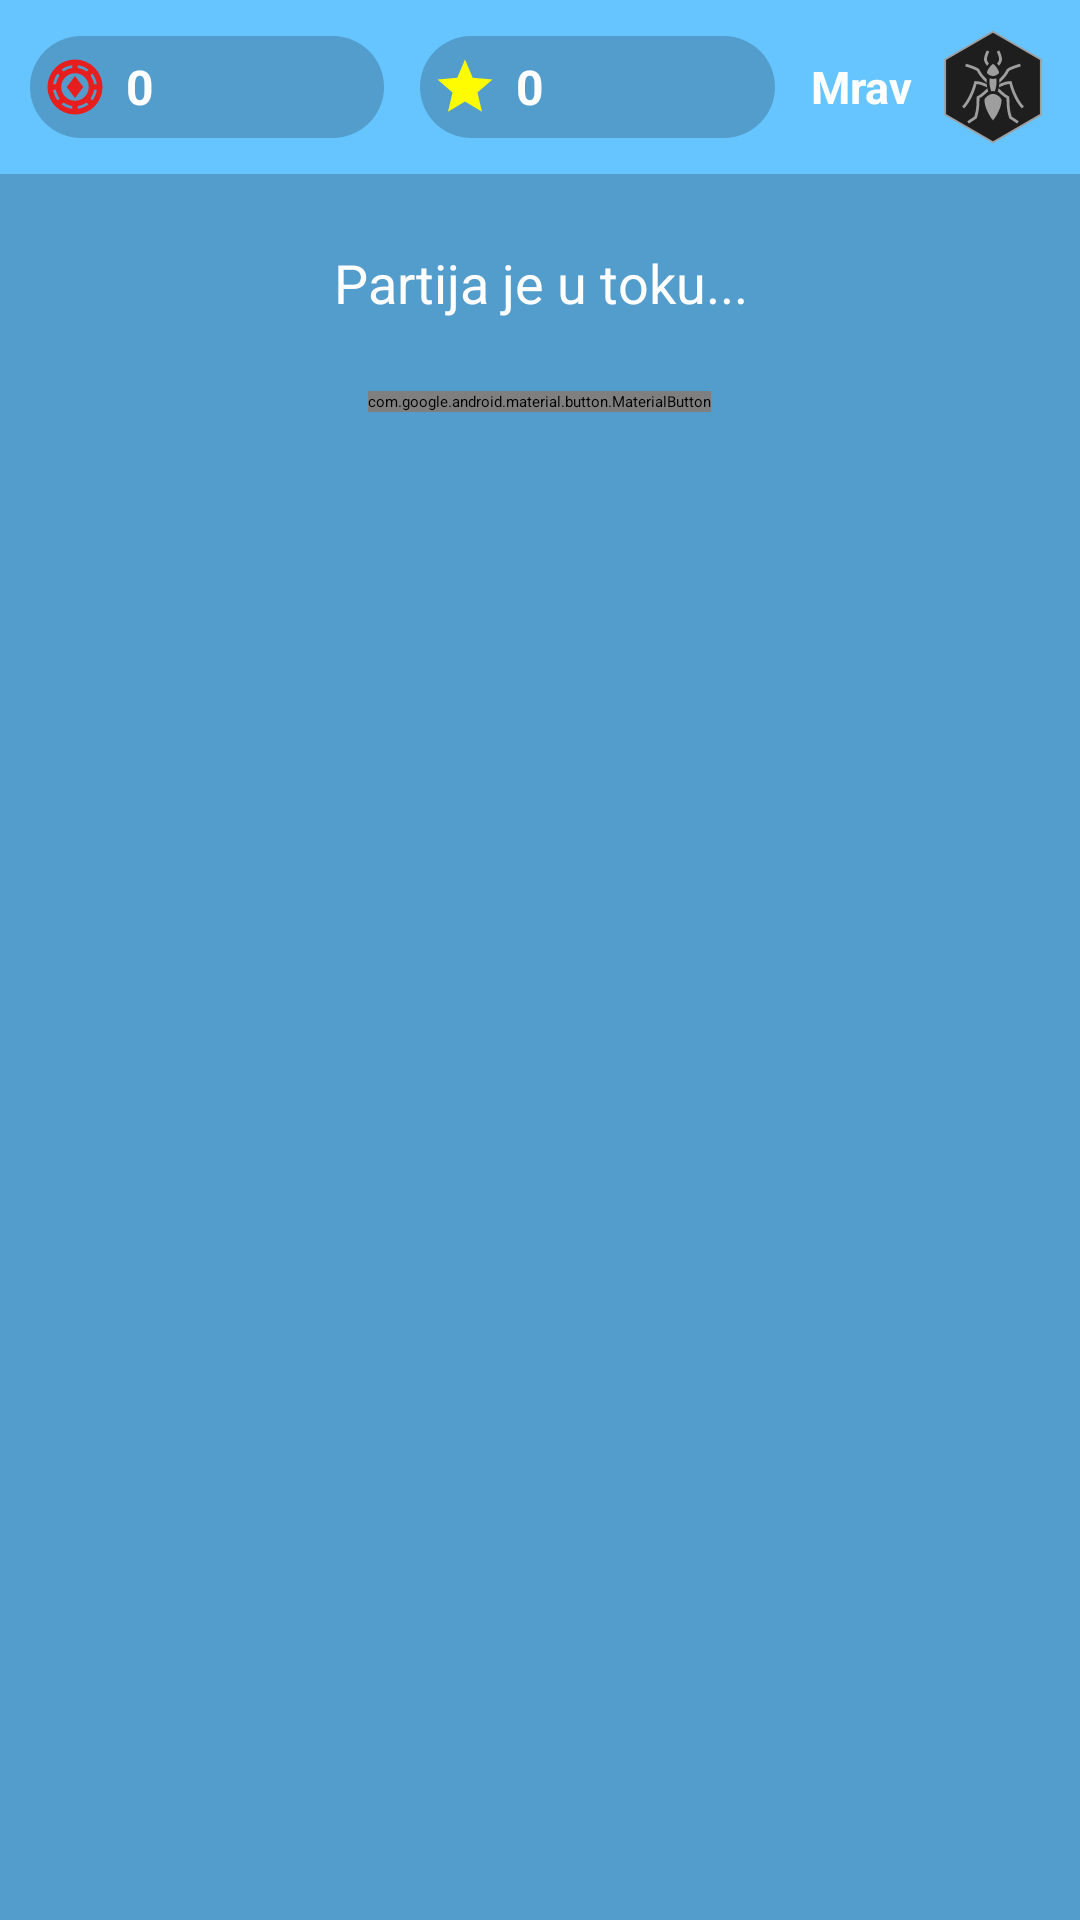

Where to tap for icons on this 1080 × 1920 app screen, as (x=x, y=y):
Tokeni: (x=75, y=87)
Zvezde: (x=465, y=86)
